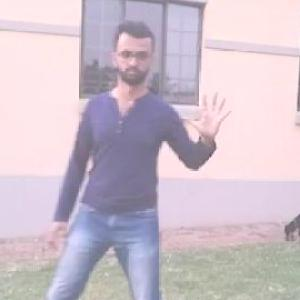follow_hand: (186, 86, 236, 138)
